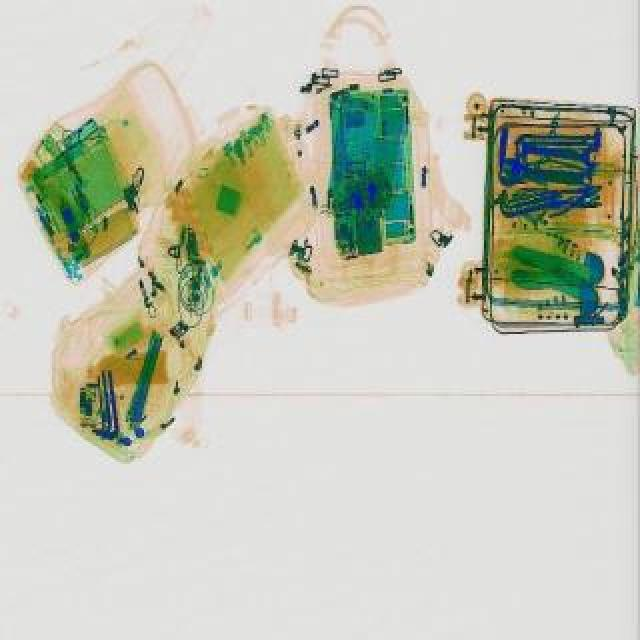scissors: (500, 158, 598, 196)
wrench: (540, 182, 608, 222)
